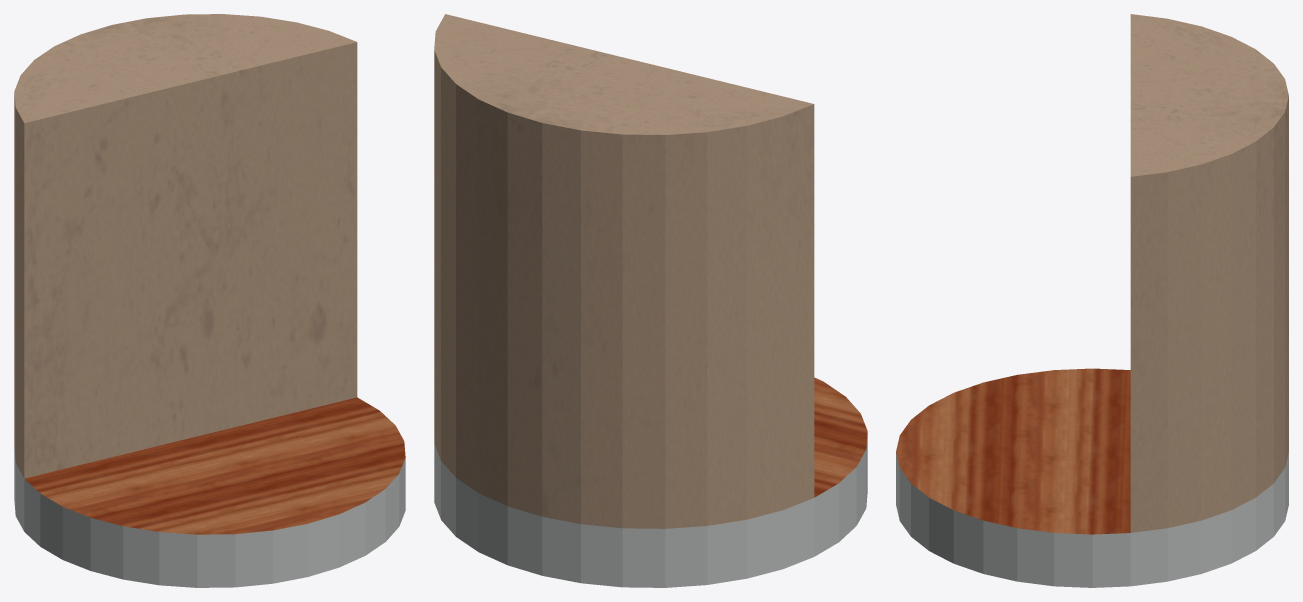
The picture shows the model from 3 angles, left to right: view 1: azimuth 30°, elevation 25°; view 2: azimuth 150°, elevation 25°; view 3: azimuth 270°, elevation 25°; orthographic projection. The views are drawn at different scales.
Parts seen in each view (by area): view 1: Cylinder; view 2: Cylinder; view 3: Cylinder.
Part boxes in pixels (x1=…): Cylinder: x1=14, y1=14, x2=405, y2=587; Cylinder: x1=434, y1=14, x2=867, y2=587; Cylinder: x1=896, y1=14, x2=1288, y2=587.
Bounding box in the file's own units: 2 × 2.3 × 2.
Materials: 3 (3 with a texture image).
